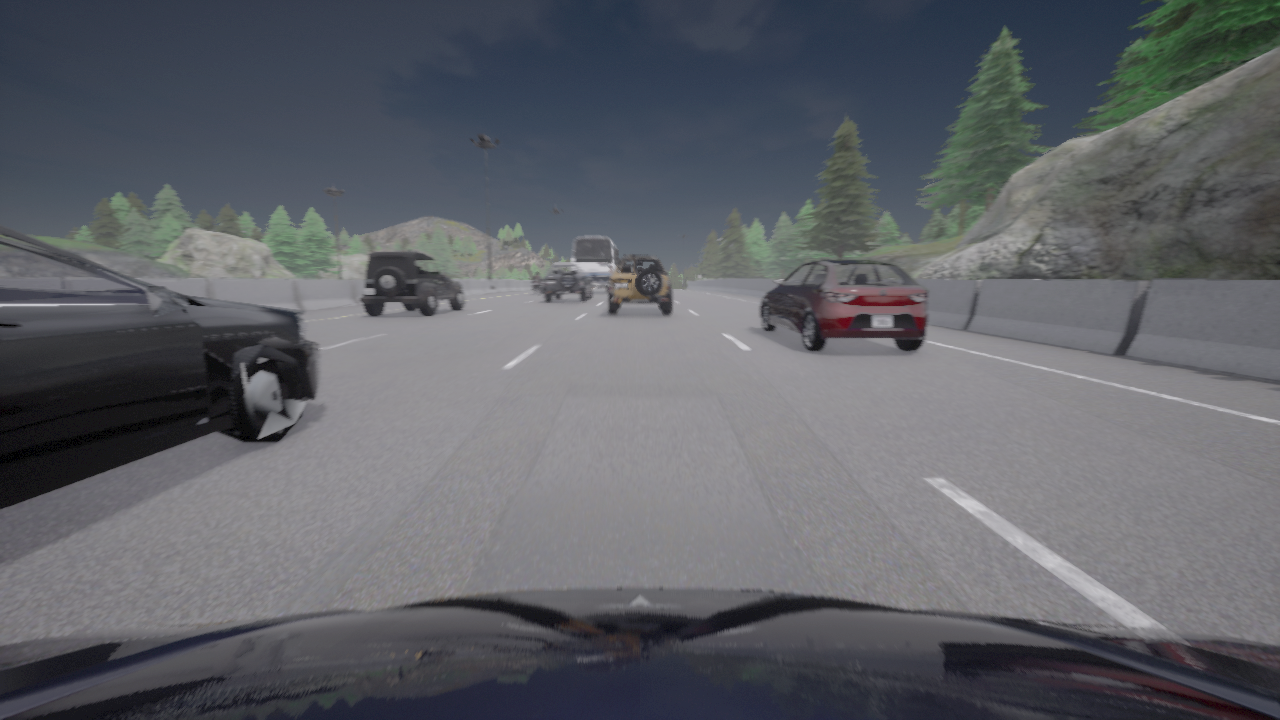cyclist: (0, 588, 1279, 719), (759, 259, 929, 351), (359, 251, 464, 316), (608, 255, 672, 314), (572, 236, 619, 292), (542, 263, 592, 301), (532, 278, 541, 294)
